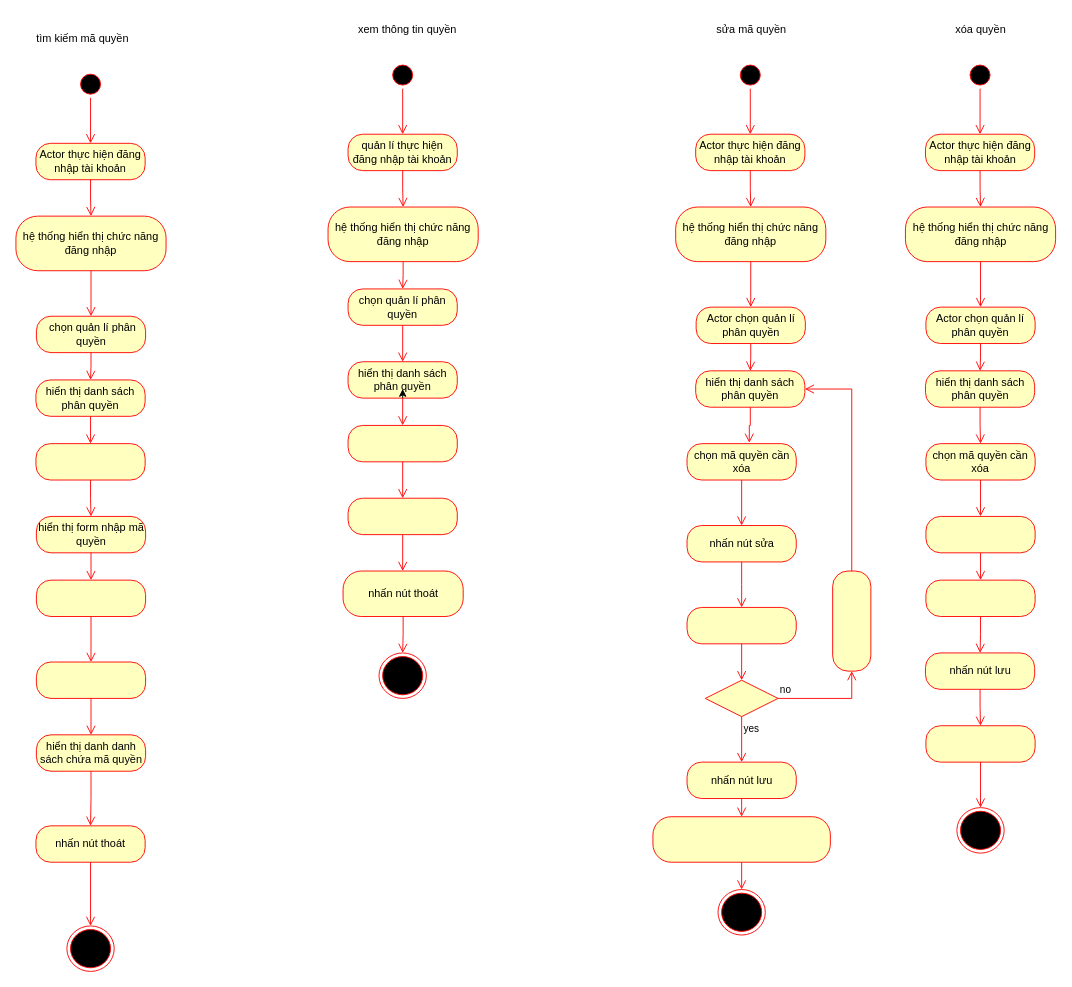
The diagram is 1072 pixels wide and 987 high, and some of its shapes have lost their labels. The centre of each missing label's shape, as x and y in pixels:
"chọn mã quyền càn xem thông tin" goes at pixel 402 443.
"chọn tìm kiếm" goes at pixel 90 461.
"hiển thị thông tin quyền" goes at pixel 402 516.
"hệ thống cập nhật quyền và lưu thông tin quyền đã thêm vào csdl" goes at pixel 741 839.
"hệ thống cập nhật thông tin quyền và lưu vào csdl" goes at pixel 980 743.
"hợp lệ" goes at pixel 741 698.
"nhấn nút tìm kiếm" goes at pixel 90 679.
"nhấn xóa" goes at pixel 980 534.
"nhập mã quyền" goes at pixel 90 598.
"nhập thông tin quyền cần sửa" goes at pixel 741 625.
"thông báo lỗi" goes at pixel 851 620.
"xác nhận trước khi xóa" goes at pixel 980 598.
